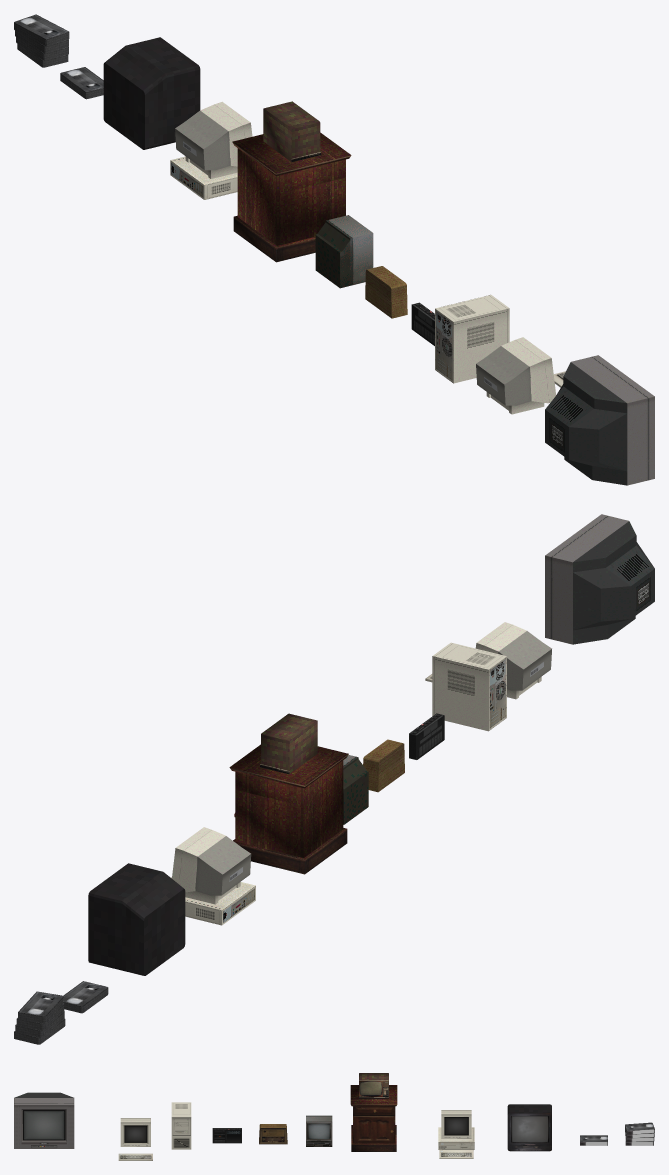
Rendered from PSX Electronics Asset Pack.glb.
The picture shows the model from 3 angles, top to bottom: view 1: azimuth 30°, elevation 25°; view 2: azimuth 150°, elevation 25°; view 3: azimuth 270°, elevation 25°; orthographic projection. The views are drawn at different scales.
Visible parts, largest first — view 1: CRT Television, Interactable_drawer, Cube, CRT PC Monitor.001, Desktop PC, CRT PC Monitor, Vintage TV, Interactable_drawer.001, Cube.001, Vintage Radio, Cube.003, FM Radio; view 2: Interactable_drawer, CRT Television, Cube, CRT PC Monitor.001, Desktop PC, CRT PC Monitor, Interactable_drawer.001, Cube.001, Vintage Radio, Vintage TV, FM Radio, Cube.003; view 3: CRT Television, Interactable_drawer, Cube, CRT PC Monitor.001, Desktop PC, CRT PC Monitor, Vintage TV, Interactable_drawer.001, Cube.001, Vintage Radio, FM Radio, Cube.003 (+1 smaller).
Boxes of the visible parts, bbox=[...] form: CRT Television: bbox=[545, 355, 654, 485]; Interactable_drawer: bbox=[232, 132, 351, 262]; Cube: bbox=[103, 37, 200, 149]; CRT PC Monitor.001: bbox=[170, 101, 252, 199]; Desktop PC: bbox=[435, 295, 509, 383]; CRT PC Monitor: bbox=[476, 337, 555, 414]; Vintage TV: bbox=[315, 215, 373, 288]; Interactable_drawer.001: bbox=[263, 101, 321, 162]; Cube.001: bbox=[14, 14, 69, 67]; Vintage Radio: bbox=[365, 266, 407, 318]; Cube.003: bbox=[60, 67, 103, 99]; FM Radio: bbox=[411, 302, 434, 345]; Interactable_drawer: bbox=[229, 744, 348, 874]; CRT Television: bbox=[545, 514, 654, 644]; Cube: bbox=[88, 863, 185, 975]; CRT PC Monitor.001: bbox=[170, 827, 255, 925]; Desktop PC: bbox=[432, 642, 506, 731]; CRT PC Monitor: bbox=[475, 622, 551, 699]; Interactable_drawer.001: bbox=[259, 713, 317, 774]; Cube.001: bbox=[14, 991, 65, 1044]; Vintage Radio: bbox=[363, 739, 404, 792]; Vintage TV: bbox=[343, 755, 368, 824]; FM Radio: bbox=[409, 713, 444, 759]; Cube.003: bbox=[63, 981, 108, 1013]; CRT Television: bbox=[14, 1092, 74, 1148]; Interactable_drawer: bbox=[350, 1085, 397, 1151]; Cube: bbox=[507, 1104, 551, 1151]; CRT PC Monitor.001: bbox=[438, 1110, 474, 1158]; Desktop PC: bbox=[171, 1102, 191, 1149]; CRT PC Monitor: bbox=[120, 1118, 150, 1146]; Vintage TV: bbox=[306, 1115, 332, 1146]; Interactable_drawer.001: bbox=[359, 1073, 388, 1098]; Cube.001: bbox=[625, 1122, 654, 1145]; Vintage Radio: bbox=[259, 1124, 287, 1144]; FM Radio: bbox=[212, 1128, 241, 1143]; Cube.003: bbox=[580, 1135, 607, 1145].
Size of the model in its own units: 0.7757 by 0.7886 by 6.99.
Materials: 13 (13 with a texture image).
